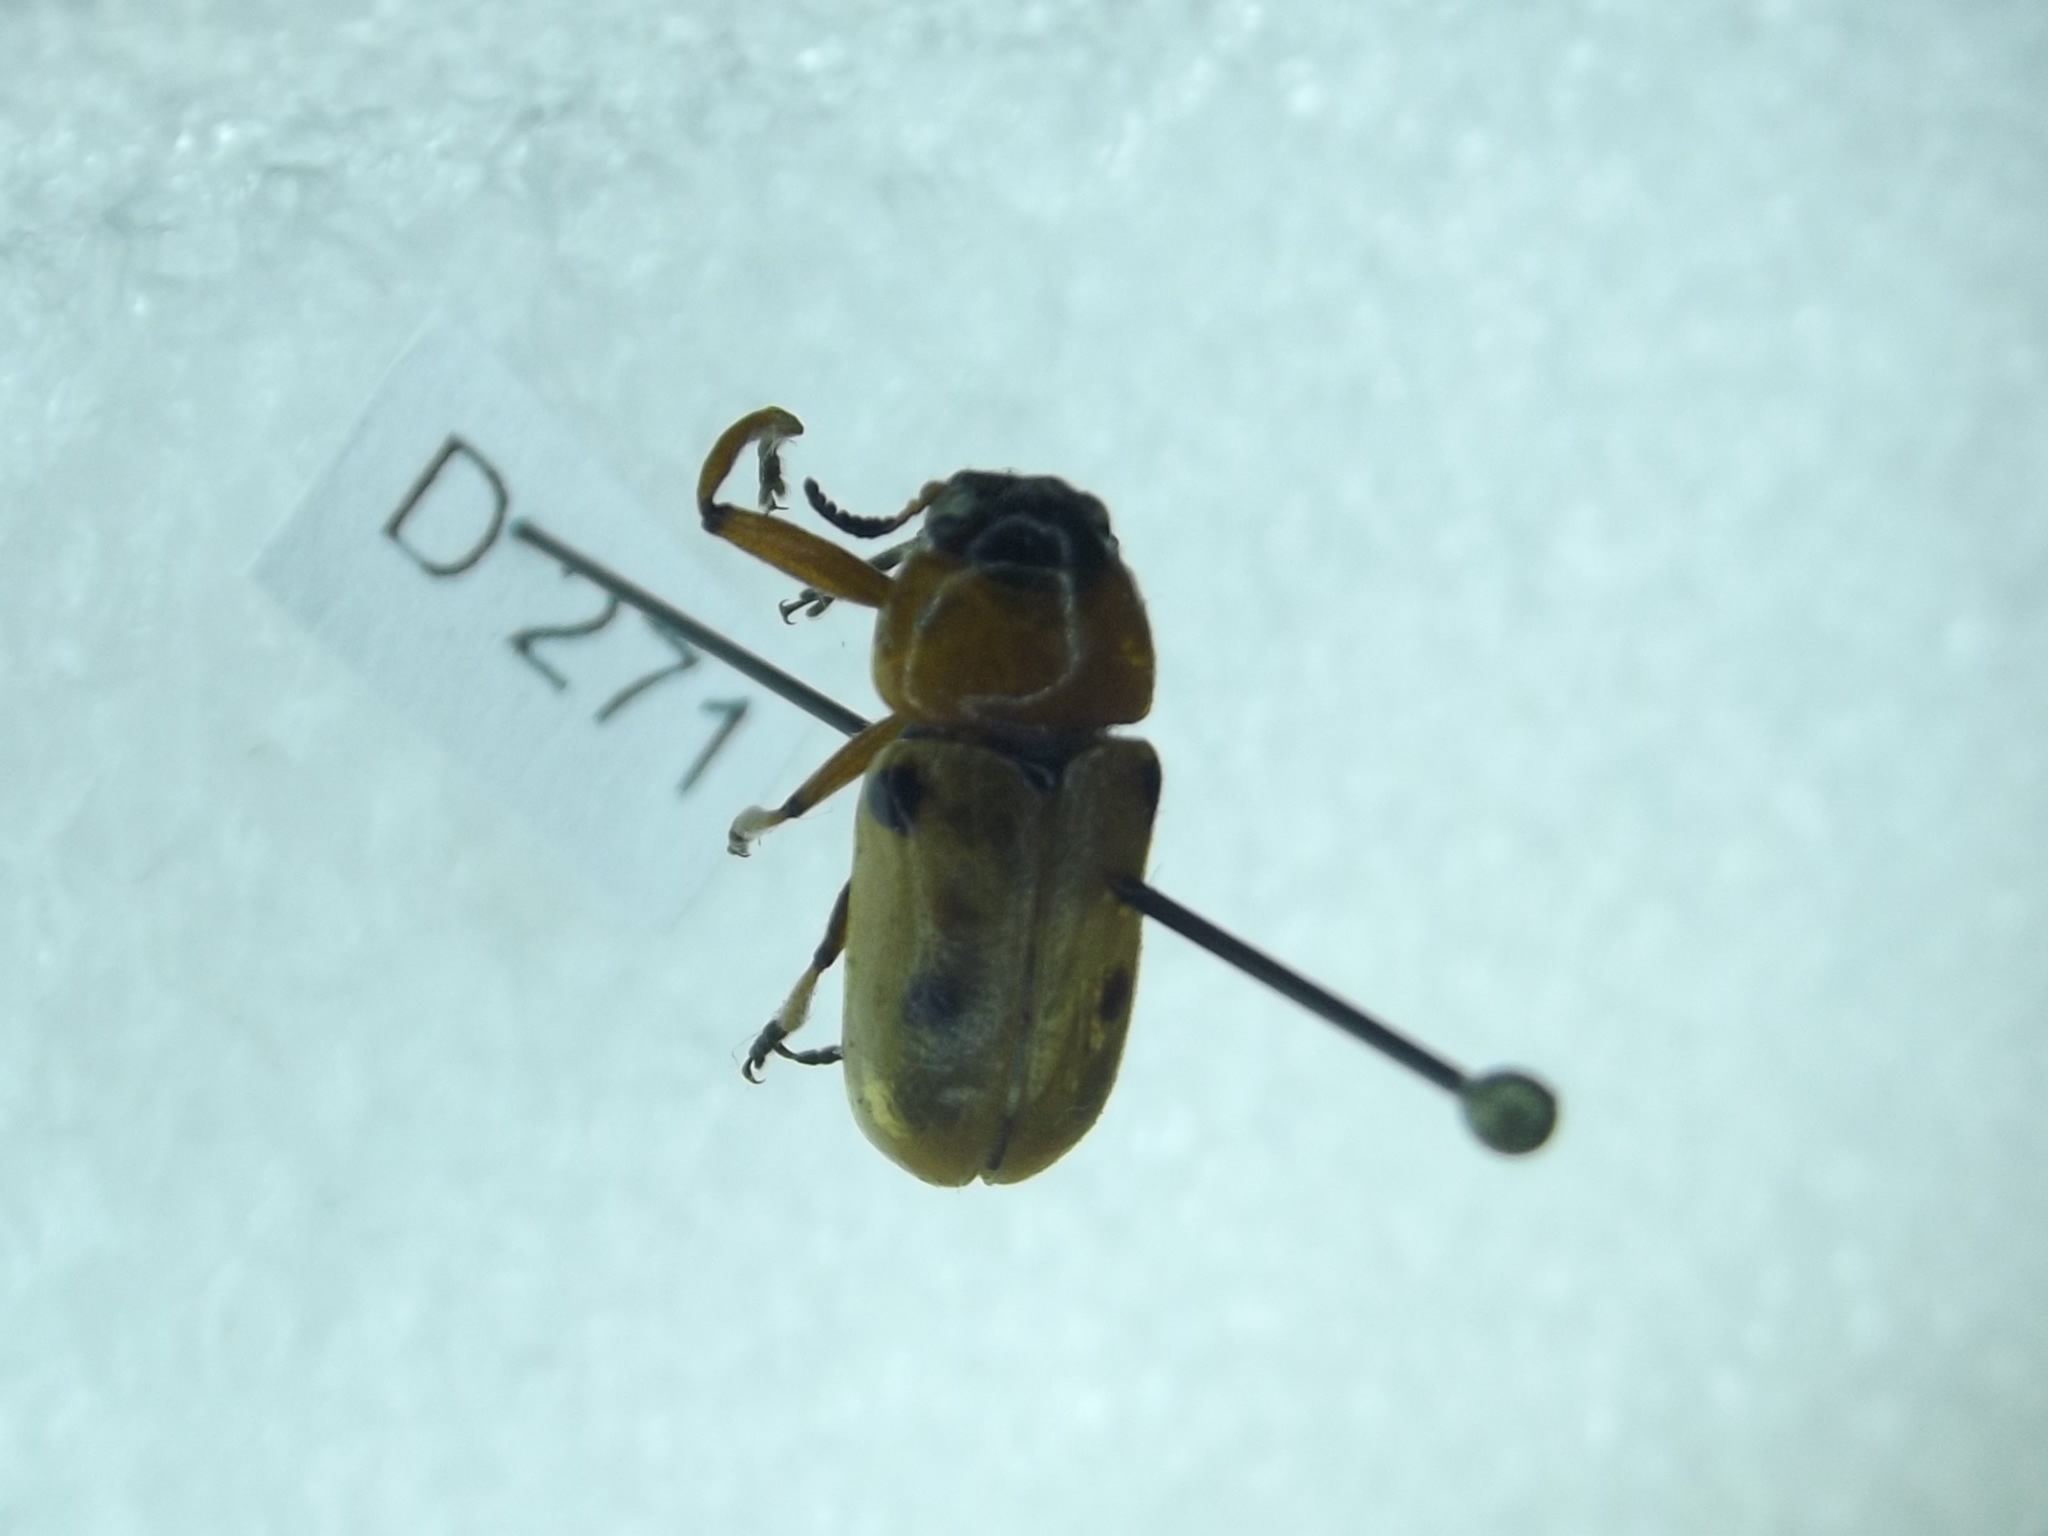Tituboea_macropus: (679, 390, 1179, 1187)
